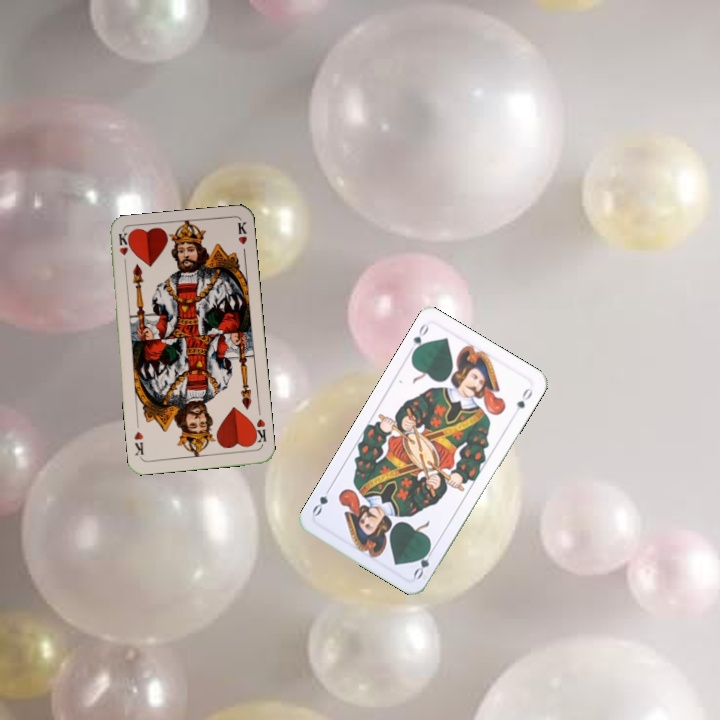GO: (409, 542, 437, 582), (404, 319, 432, 358)
HK: (114, 230, 130, 271), (248, 415, 269, 446)
